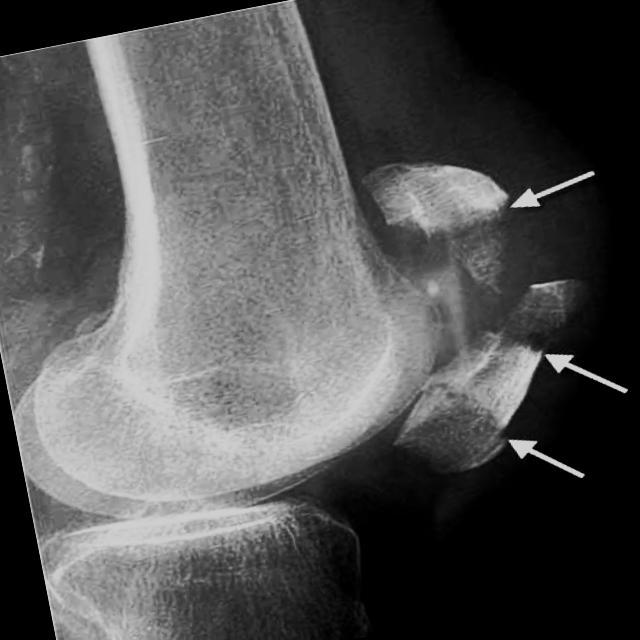Comminuted Fracture: (384, 153, 556, 275), (427, 306, 560, 463)
